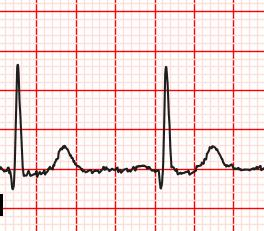Pathological Q Wave: (150, 165, 173, 193), (4, 166, 23, 192)
